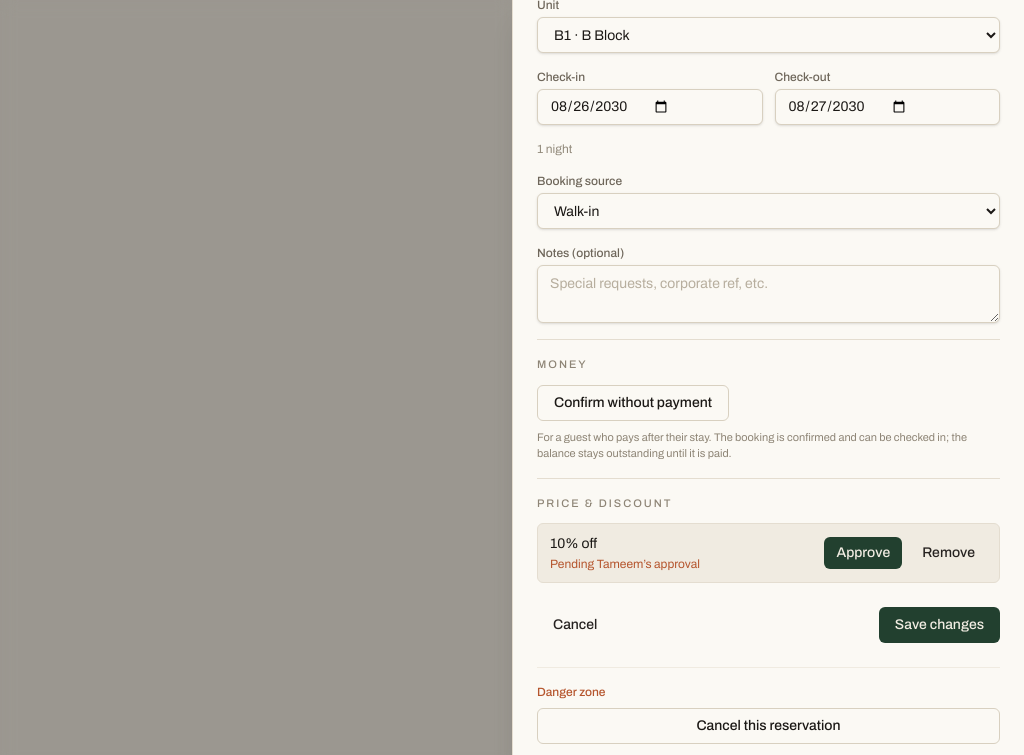
Test: ReservationFormDrawer — discount control › shows the refusal when removing or approving a discount fails too
(page scrolled)
Step 1. Click the button "Remove" → [949, 553], box [910, 537, 987, 569]
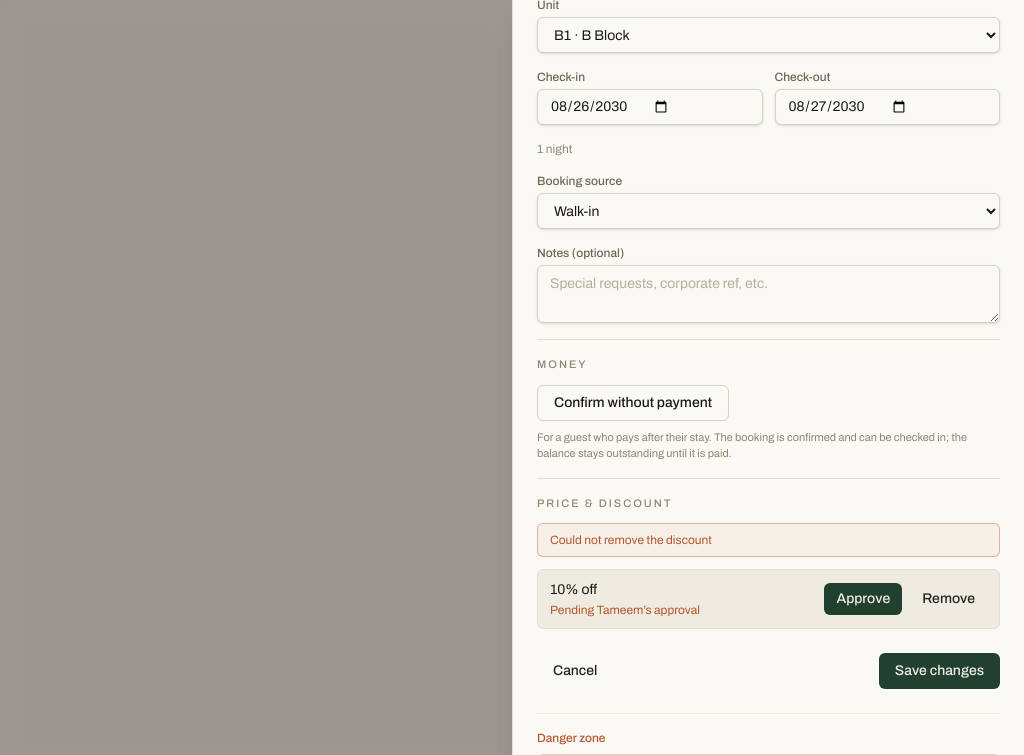
Expected: the text "Could not remove the discount" is shown, [537, 523, 1000, 557]
Step 2. Click the button "Approve" → [863, 599], box [824, 583, 902, 615]
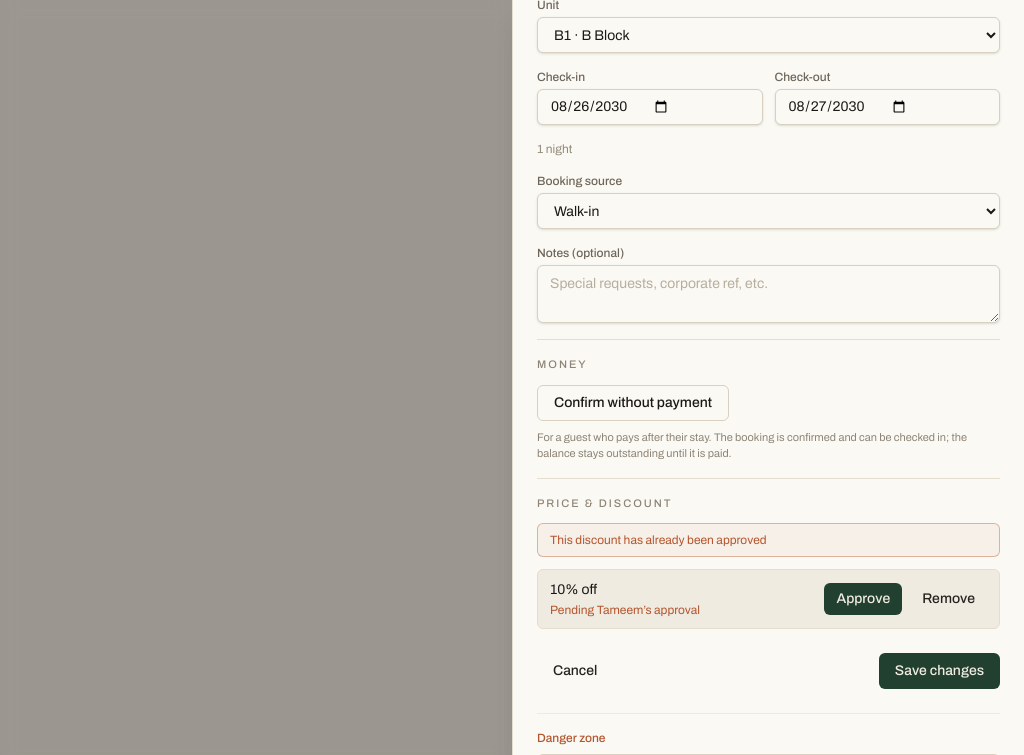
Expected: the text "This discount has already been approved" is shown, [537, 523, 1000, 557]
